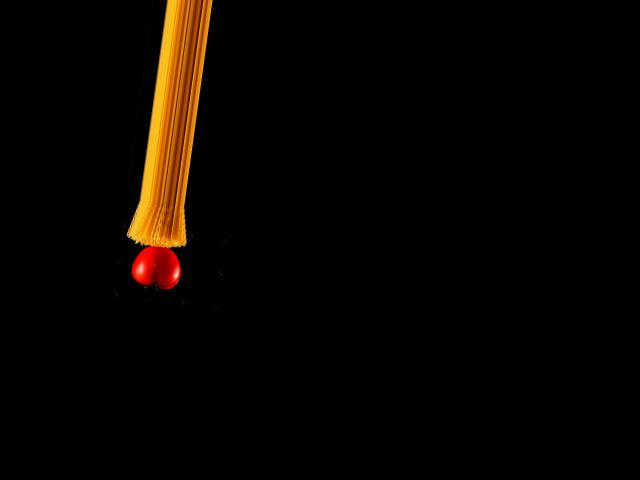tomato: (129, 242, 183, 291)
